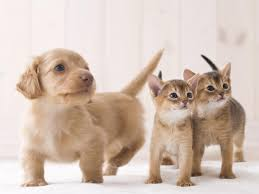cat: (182, 66, 248, 181), (147, 72, 199, 188)
dog: (14, 43, 149, 186)
